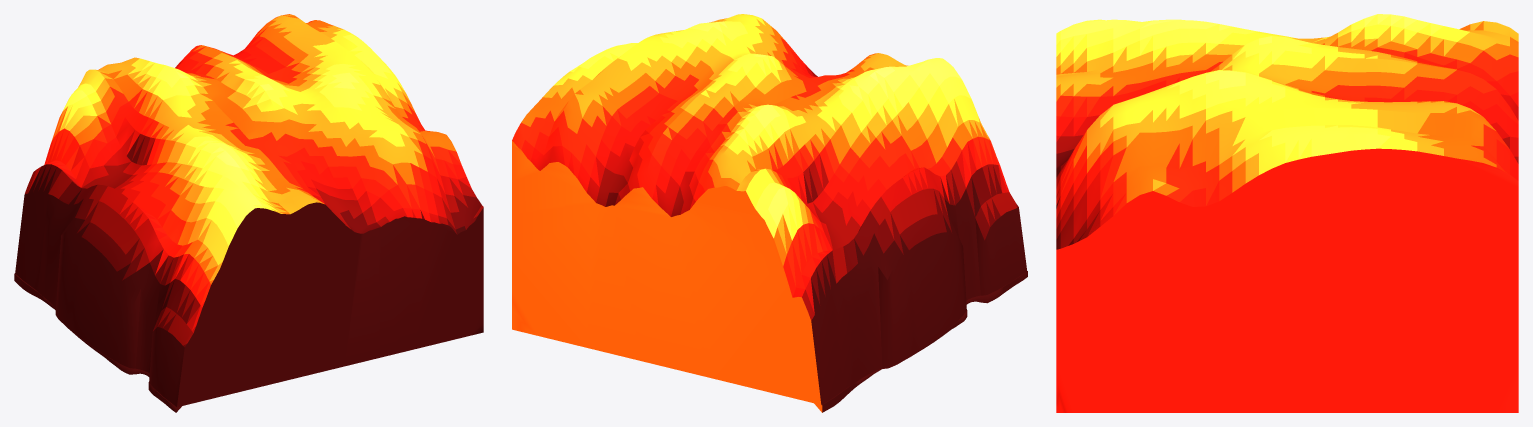
Rendered from core_fire_77.glb.
3 views of the same model, side by side, from view 1: azimuth 30°, elevation 25°; view 2: azimuth 150°, elevation 25°; view 3: azimuth 270°, elevation 25° (orthographic). The views are drawn at different scales.
Visible parts, largest first — view 1: core_fire_77_fire; view 2: core_fire_77_fire; view 3: core_fire_77_fire.
Part boxes in pixels (left/top/right/bottom): core_fire_77_fire: left=14, top=14, right=483, bottom=412; core_fire_77_fire: left=512, top=14, right=1027, bottom=412; core_fire_77_fire: left=1056, top=14, right=1518, bottom=412.
Bounding box in the file's own units: 21 × 15.11 × 21.
